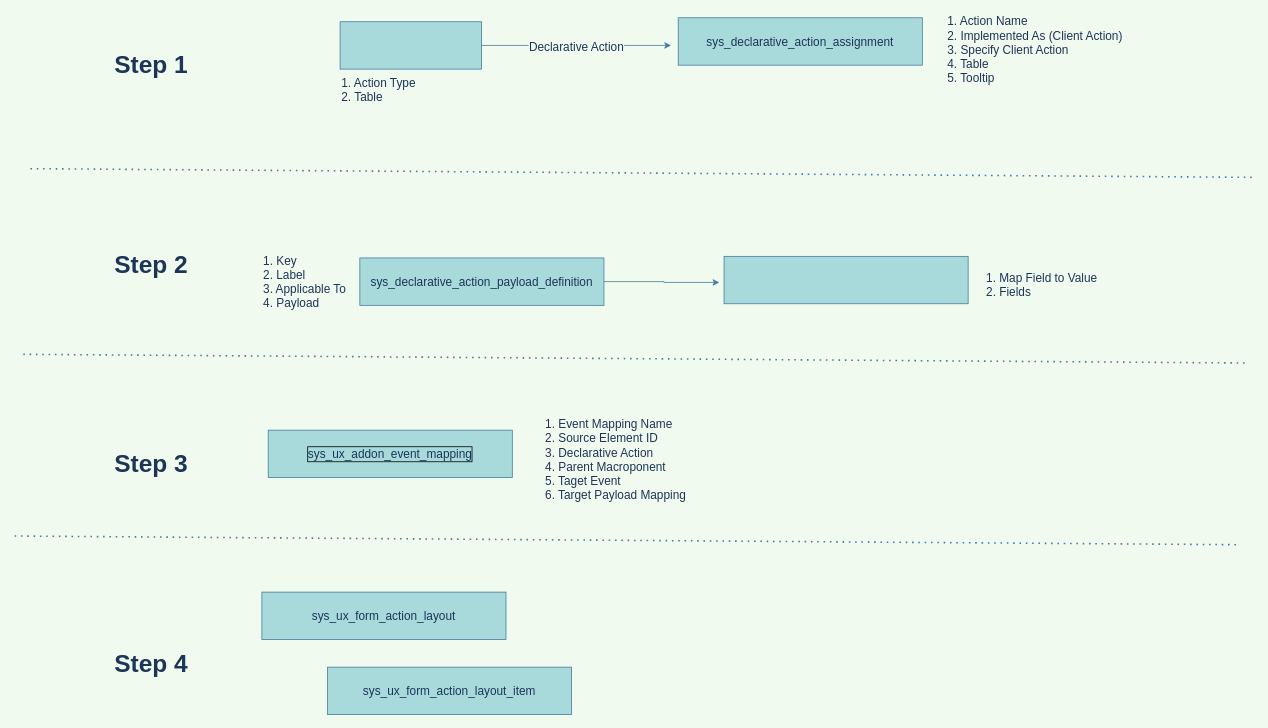
Some shapes in this 1268 by 728 pixel diagram are drawn without their labels. The centre of each missing label's shape, as x and y in pixels:
"sys_declarative_action_payload_mapping" goes at (x=845, y=280).
"sys_ux_form_action" goes at (x=410, y=45).
